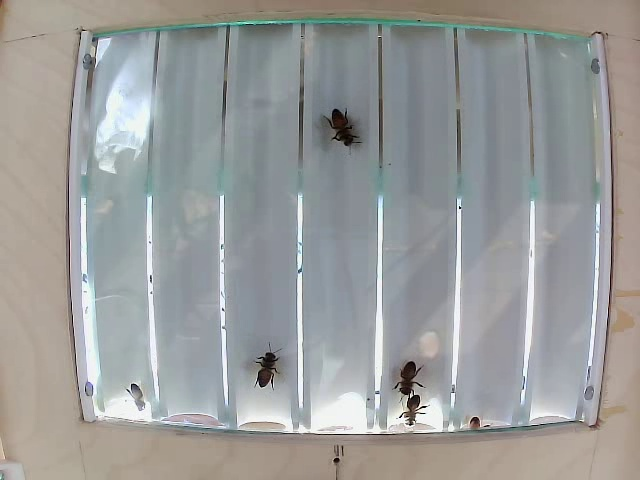bee: (323, 105, 366, 157), (247, 342, 276, 394), (397, 390, 431, 433), (392, 357, 422, 392)
